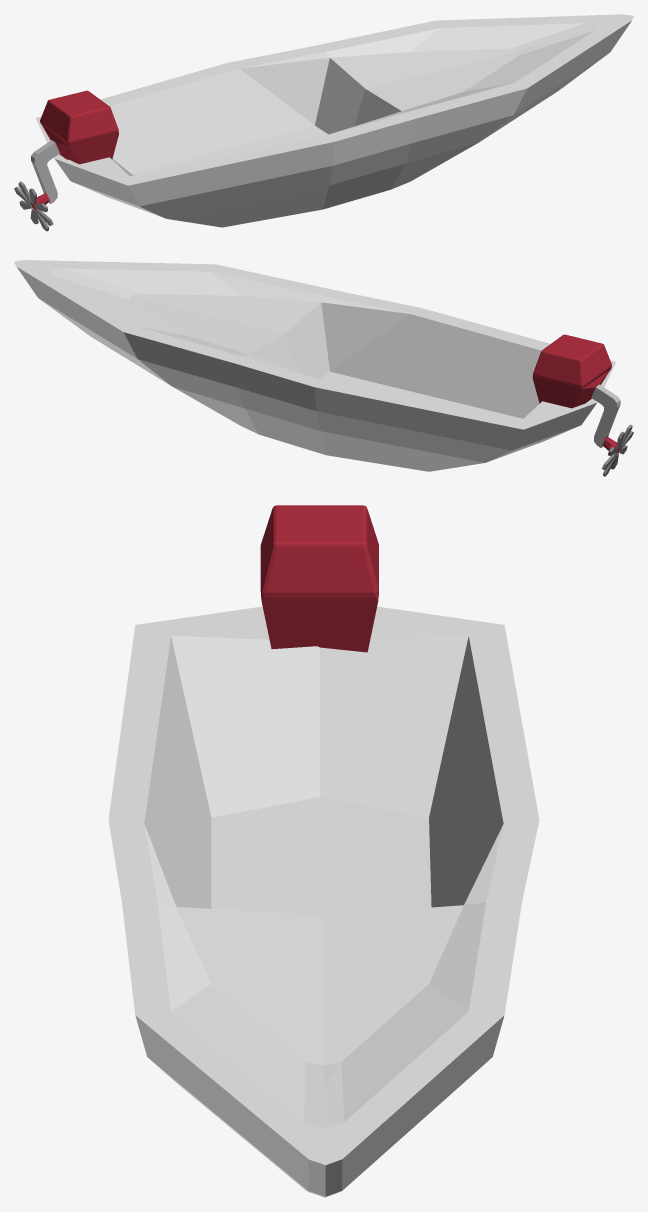
Rendered from tekne.fbx.
3 views of the same model, one above another, from view 1: azimuth 30°, elevation 25°; view 2: azimuth 150°, elevation 25°; view 3: azimuth 270°, elevation 25° (orthographic). The views are drawn at different scales.
Parts seen in each view (by area): view 1: TEKNE; view 2: TEKNE; view 3: TEKNE.
Boxes of the visible parts, left/top/right/bottom form: TEKNE: left=14, top=14, right=633, bottom=231; TEKNE: left=14, top=260, right=633, bottom=476; TEKNE: left=108, top=505, right=539, bottom=1197.
Size of the model in its own units: 1626 by 351 by 496.
